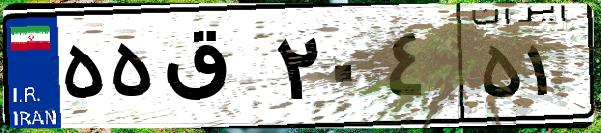0: (330, 28, 385, 110)
1: (525, 38, 570, 115)
2: (270, 28, 330, 110)
4: (385, 28, 445, 110)
5: (57, 26, 110, 100), (475, 38, 525, 113), (110, 28, 158, 98)
ق: (158, 20, 270, 120)
